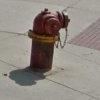Hydrant: (18, 2, 75, 78)
